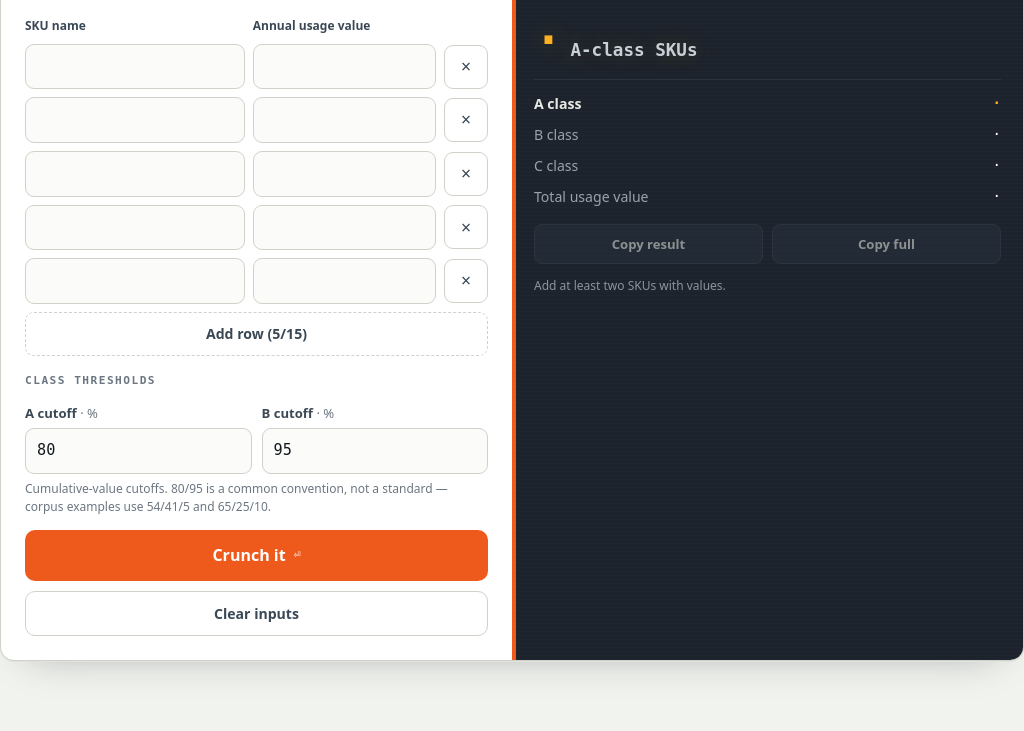
AbcCalculator › shows an inline threshold error and drops the table on bad cutoffs
Type "alpha" into the field named "SKU 1 name".
click(135, 67); type("alpha")  # box [25,44,245,90]
Type "54000" into the number field named "SKU 1 annual usage value".
click(344, 67); type("54000")  # box [253,44,436,90]
Type "bravo" into the field named "SKU 2 name".
click(135, 120); type("bravo")  # box [25,98,245,143]
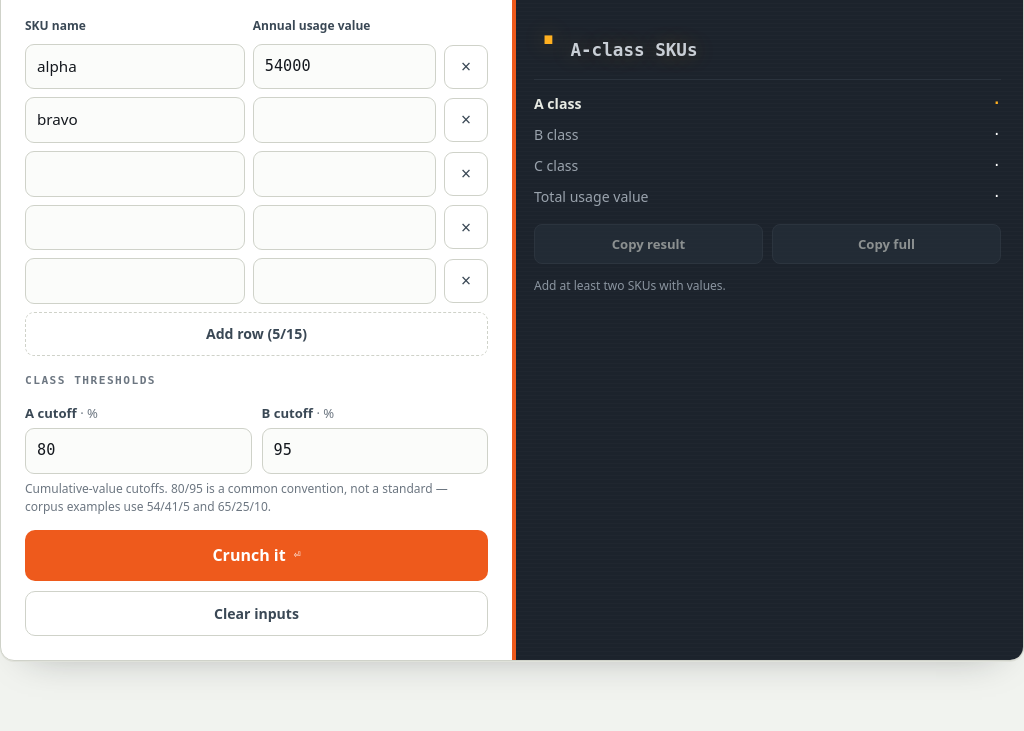
Type "41000" into the number field named "SKU 2 annual usage value".
click(344, 120); type("41000")  # box [253,98,436,143]
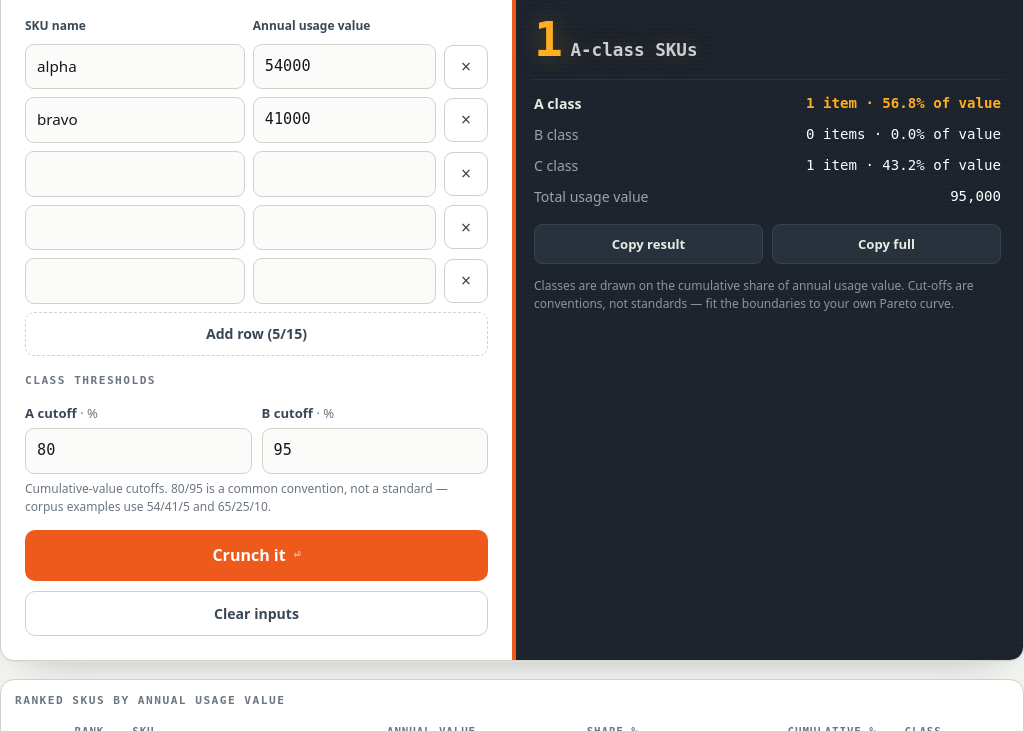
Type "charlie" into the field named "SKU 3 name".
click(135, 174); type("charlie")  # box [25,151,245,196]
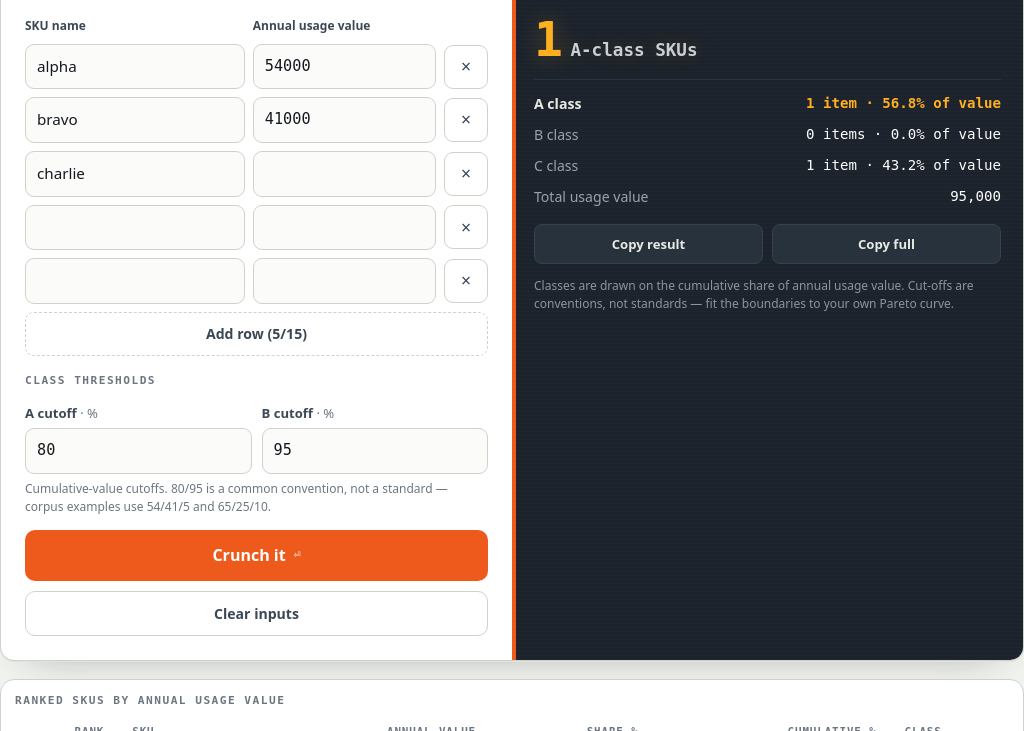
Type "5000" into the number field named "SKU 3 annual usage value".
click(344, 174); type("5000")  # box [253,151,436,196]
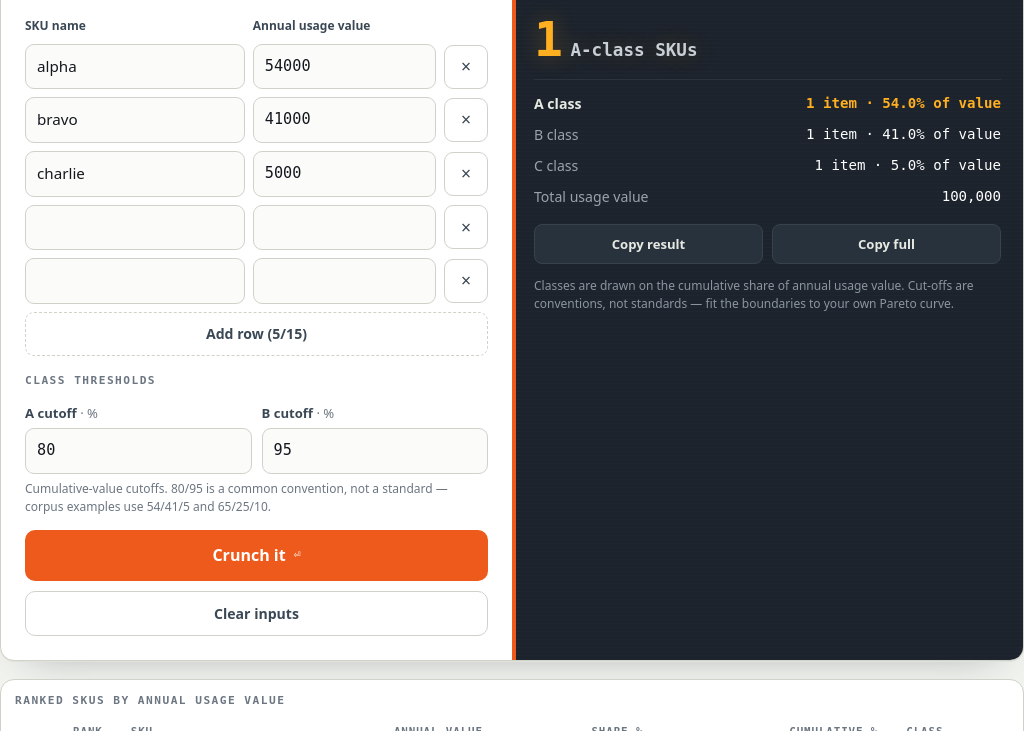
Replace the text in the number field labelled "A cutoff" with "97" at (138, 451), box [25,428,252,474]
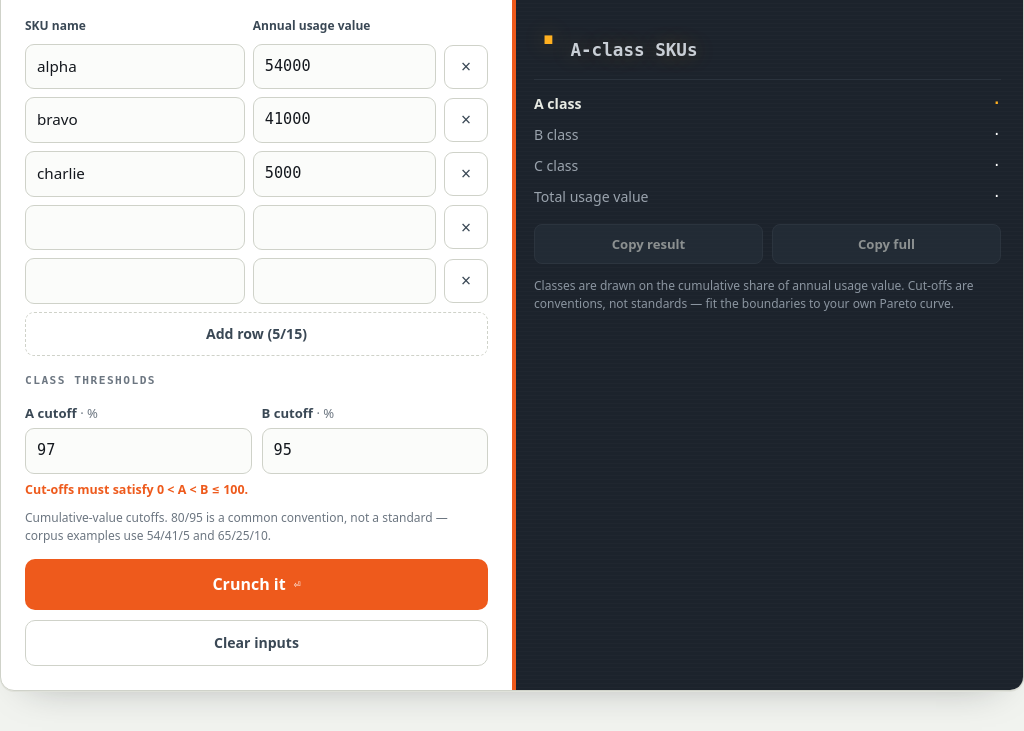
Expected: the message shows "0 < A < B ≤ 100", [25,481,248,498]
Expected: the element with test id "result-A-count" reads "·A-class SKUs", [534,11,698,67]
Replace the text in the number field labelled "A cutoff" with "80" at (138, 451), box [25,428,252,474]
(page scrolled)
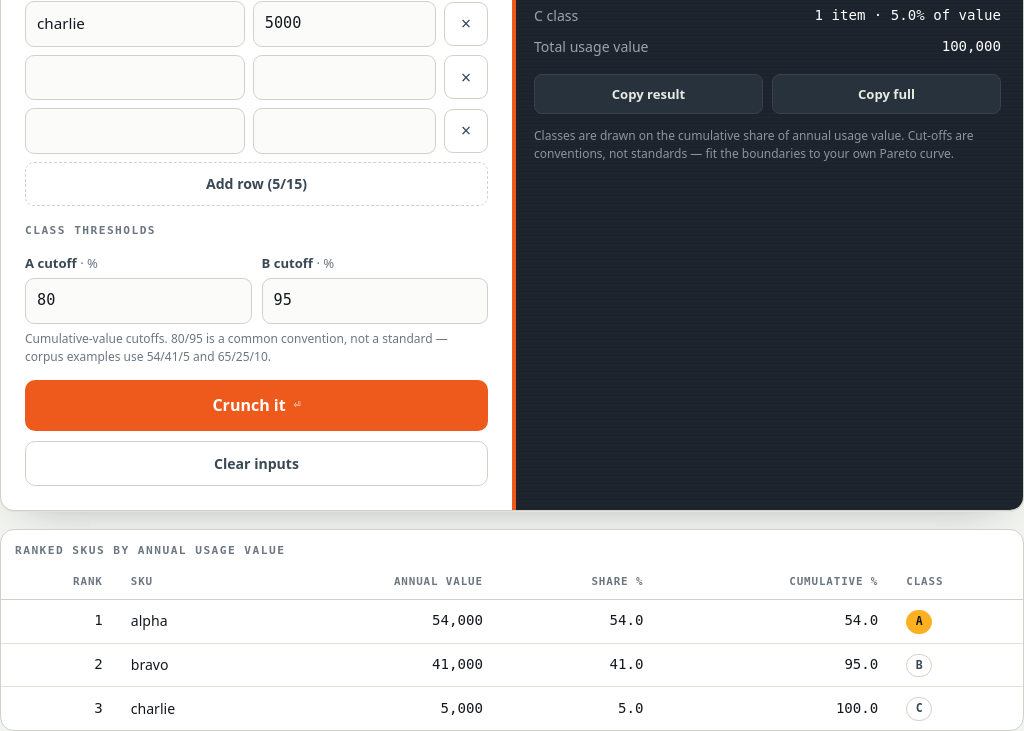
Expected: the message "Cut-offs must satisfy 0 < A < B ≤ 100." is gone
Expected: the table is shown, [1,530,1023,730]
